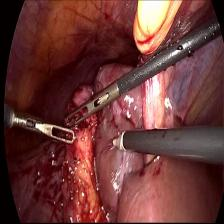Grasper: (64, 79, 118, 131), (35, 116, 77, 150)
Hook: (108, 130, 128, 157)
